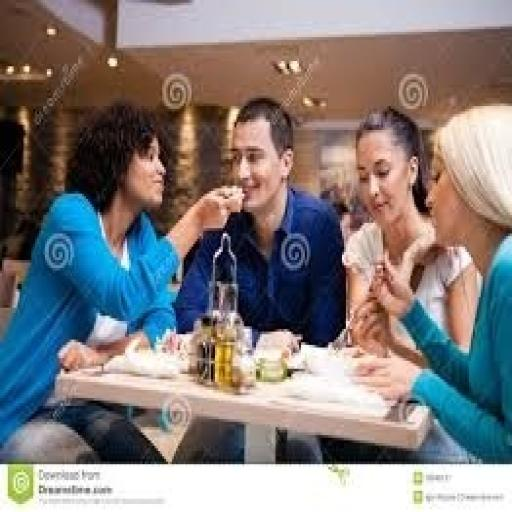eating: (0, 98, 244, 464), (346, 101, 510, 464), (172, 96, 348, 348)
